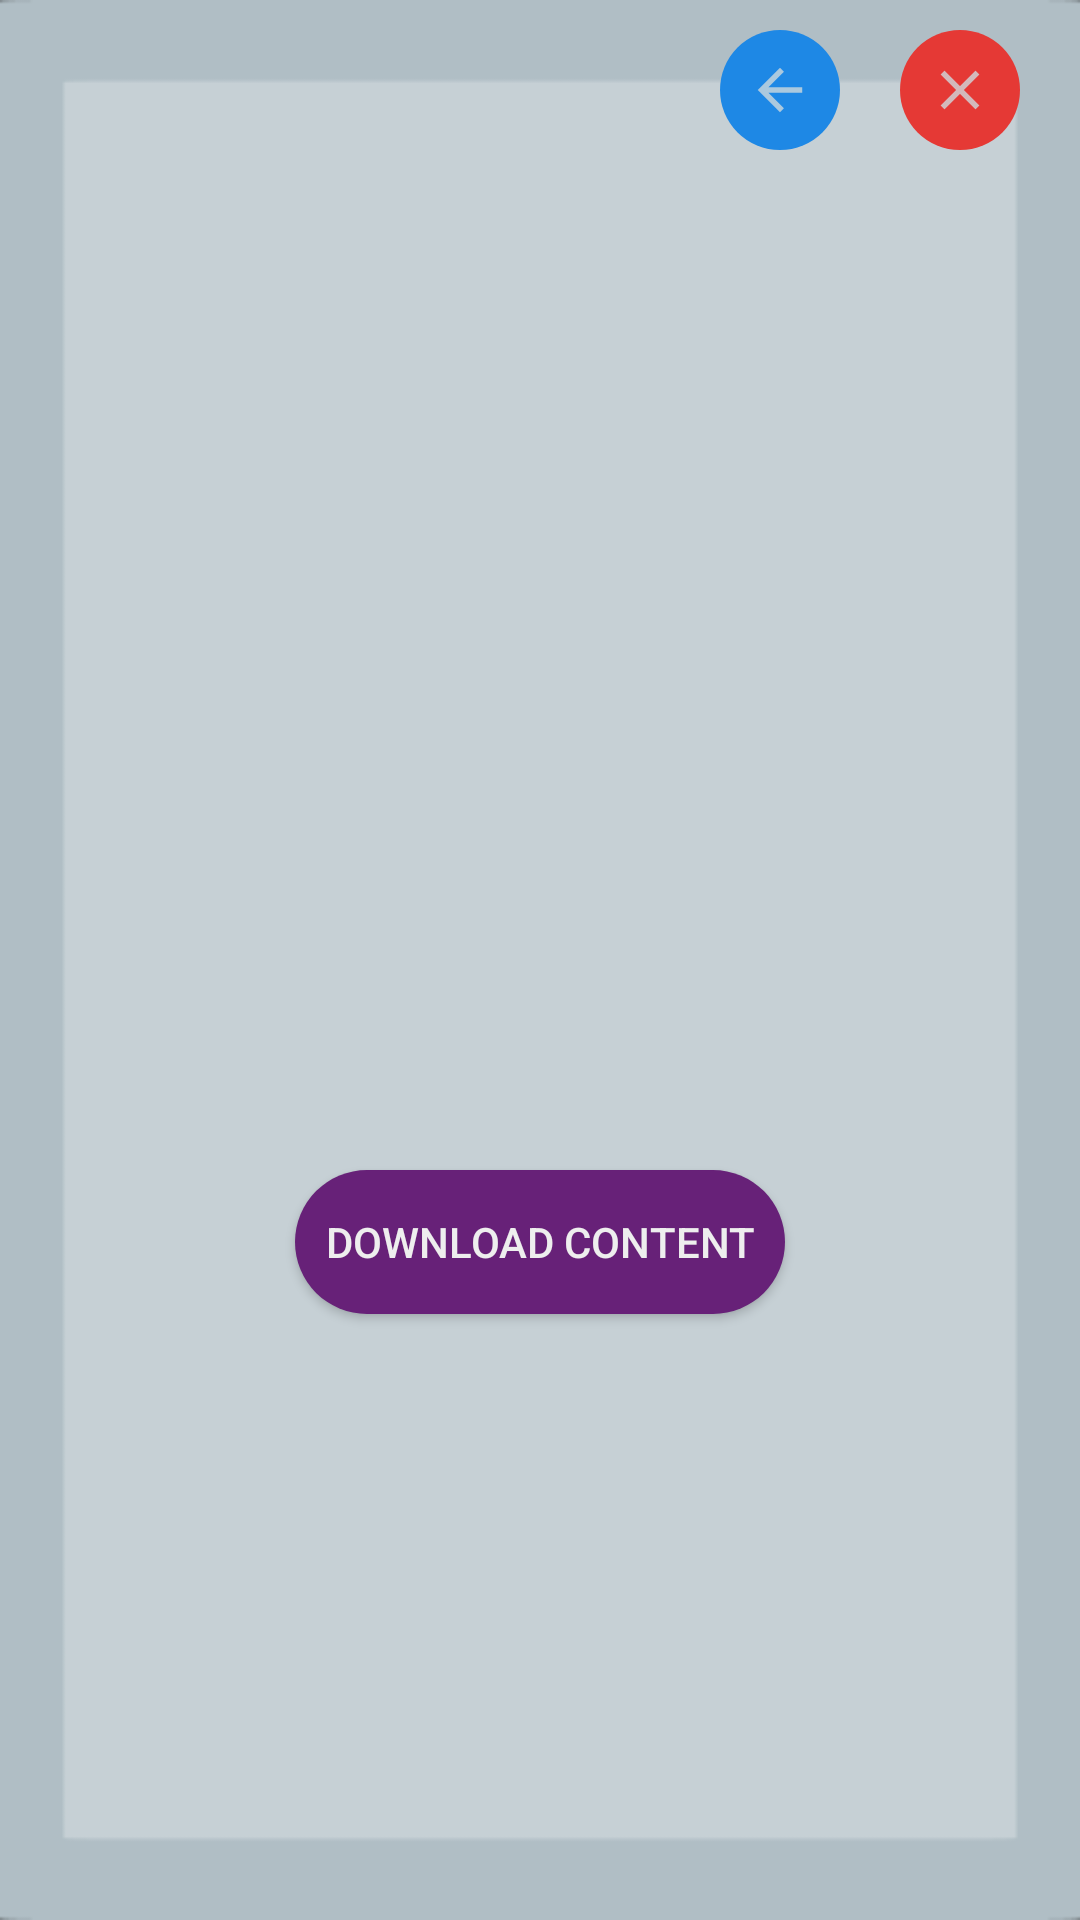

Point at icon controls on the screen. Image size 1080px x 1920px, points as [x,y].
Back: [780,90]
Close: [960,90]
